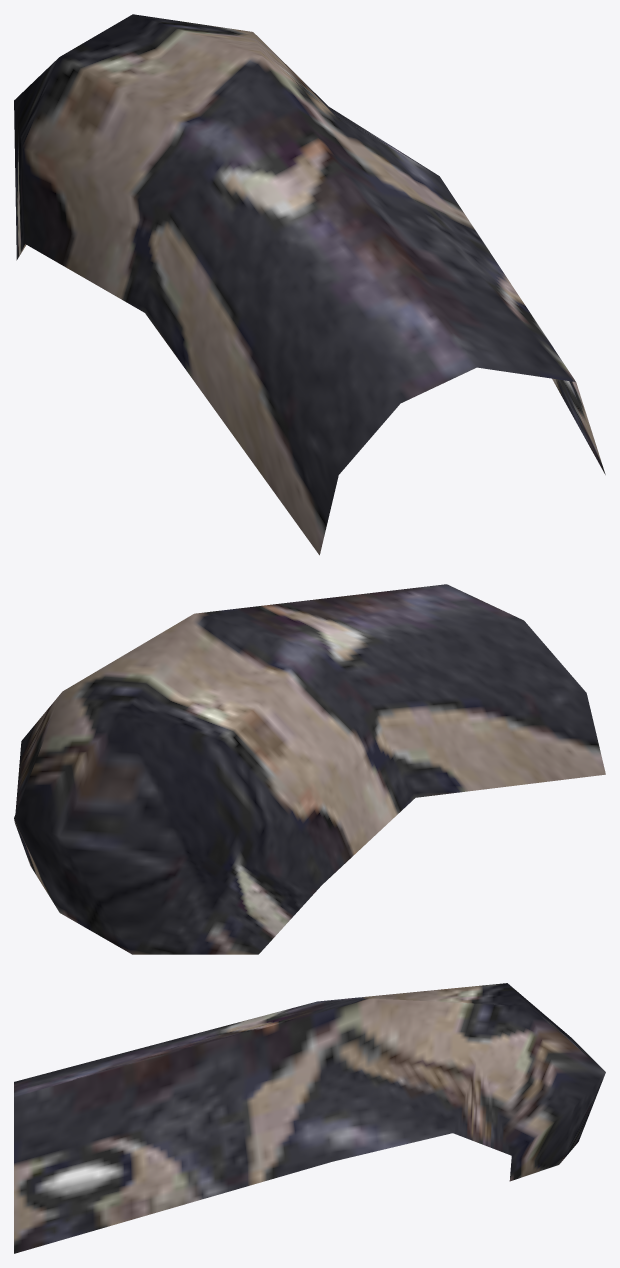
3 renders of one model, top to bottom at view 1: azimuth 30°, elevation 25°; view 2: azimuth 150°, elevation 25°; view 3: azimuth 270°, elevation 25°, orthographic. The views are drawn at different scales.
Visible parts, largest first — view 1: Object46; view 2: Object46; view 3: Object46.
Boxes of the visible parts, x1,y1,x2,y2 form: Object46: (14,14,605,555); Object46: (14,584,605,954); Object46: (14,983,605,1253).
Size of the model in its own units: 28867 by 23704 by 57550.
